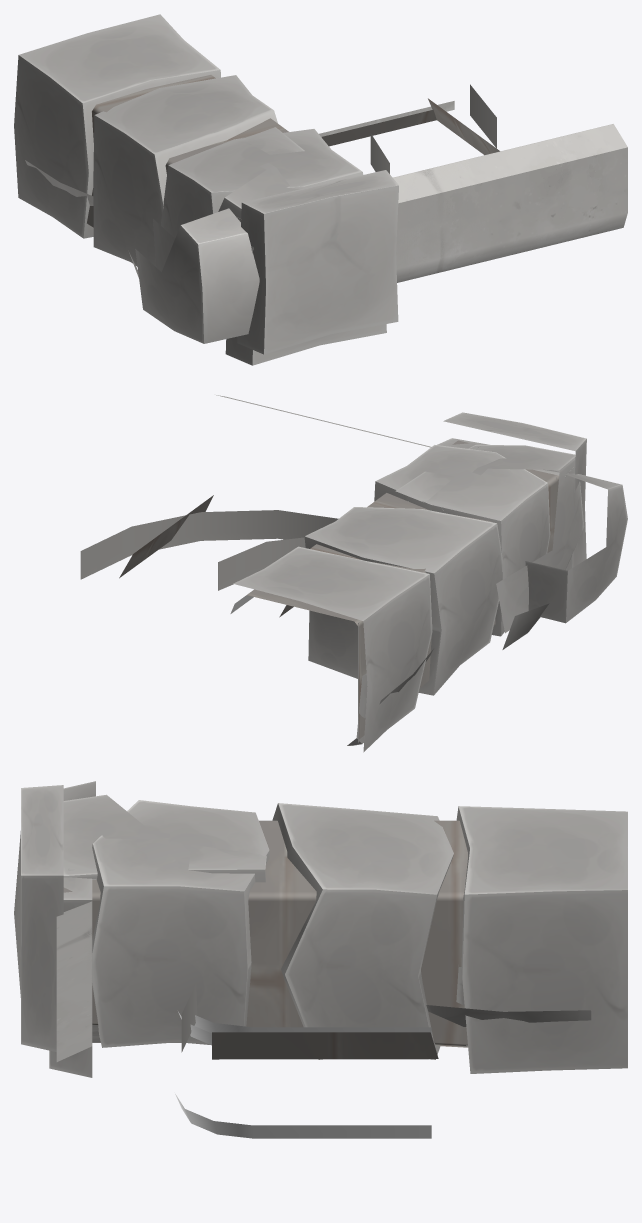
The model's file is wall_set.glb.
3 renders of one model, top to bottom at view 1: azimuth 30°, elevation 25°; view 2: azimuth 150°, elevation 25°; view 3: azimuth 270°, elevation 25°, orthographic. The views are drawn at different scales.
Parts seen in each view (by area): view 1: rsrc.world.tileset.castle_light.wall.wall_set-Variant[wall_p (×2), rsrc.world.tileset.castle_light.wall.wall_set-Variant[wall_a (×5), rsrc.world.tileset.castle_light.wall.wall_set-Variant[wall_u, rsrc.world.tileset.castle_light.wall.wall_set-Variant[corner (×2); view 2: rsrc.world.tileset.castle_light.wall.wall_set-Variant[wall_p (×2), rsrc.world.tileset.castle_light.wall.wall_set-Variant[wall_a (×3), rsrc.world.tileset.castle_light.wall.wall_set-Variant[corner, rsrc.world.tileset.castle_light.wall.wall_set-Variant[wall_u (×2); view 3: rsrc.world.tileset.castle_light.wall.wall_set-Variant[wall_p (×2), rsrc.world.tileset.castle_light.wall.wall_set-Variant[wall_a (×4), rsrc.world.tileset.castle_light.wall.wall_set-Variant[corner (×2), rsrc.world.tileset.castle_light.wall.wall_set-Variant[wall_u.
Boxes of the visible parts, x1,y1,x2,y2 form: rsrc.world.tileset.castle_light.wall.wall_set-Variant[wall_p (×2): (14,14,398,354); rsrc.world.tileset.castle_light.wall.wall_set-Variant[wall_a (×5): (319,84,627,282); rsrc.world.tileset.castle_light.wall.wall_set-Variant[wall_u: (135,208,259,343); rsrc.world.tileset.castle_light.wall.wall_set-Variant[corner (×2): (153,127,386,365); rsrc.world.tileset.castle_light.wall.wall_set-Variant[wall_p (×2): (233,412,586,752); rsrc.world.tileset.castle_light.wall.wall_set-Variant[wall_a (×3): (80,395,430,617); rsrc.world.tileset.castle_light.wall.wall_set-Variant[corner: (395,444,584,633); rsrc.world.tileset.castle_light.wall.wall_set-Variant[wall_u (×2): (502,469,627,649); rsrc.world.tileset.castle_light.wall.wall_set-Variant[wall_p (×2): (14,785,627,1073); rsrc.world.tileset.castle_light.wall.wall_set-Variant[wall_a (×4): (56,902,438,1138); rsrc.world.tileset.castle_light.wall.wall_set-Variant[corner (×2): (49,794,266,1077); rsrc.world.tileset.castle_light.wall.wall_set-Variant[wall_u: (426,1005,591,1026).
Size of the model in its own units: 3.88 by 1.3 by 3.44.
Materials: 6 (5 with a texture image).
